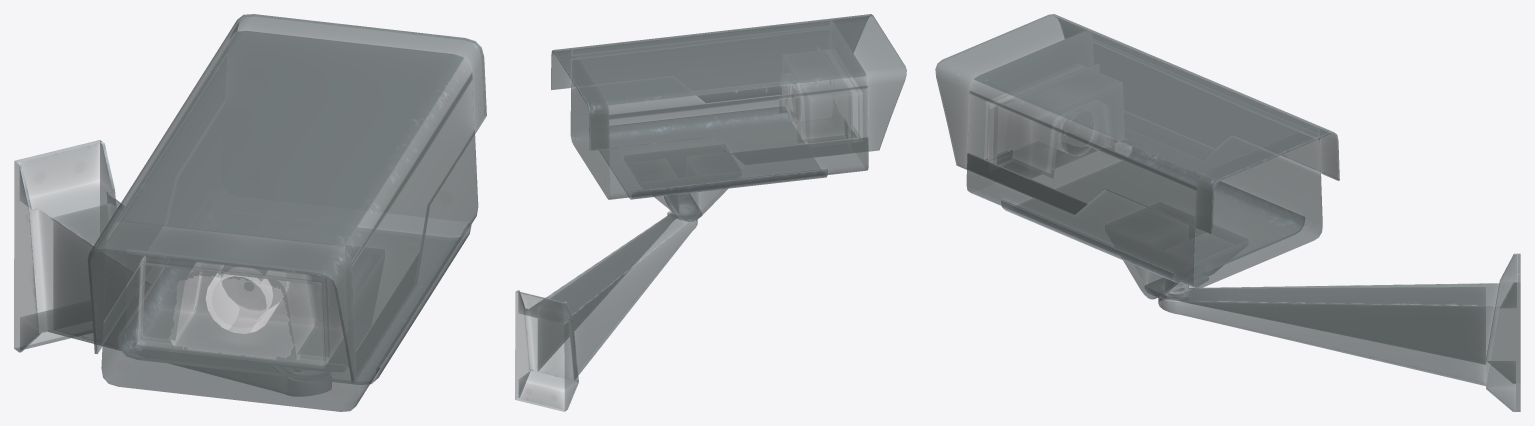
The model's file is Security_camera_1.glb.
The picture shows the model from 3 angles, left to right: view 1: azimuth 30°, elevation 25°; view 2: azimuth 150°, elevation 25°; view 3: azimuth 270°, elevation 25°; orthographic projection. The views are drawn at different scales.
Visible parts, largest first — view 1: Cam1_cam002_Cam1_0, Cam1_fixture001_Cam1_0; view 2: Cam1_cam002_Cam1_0, Cam1_fixture001_Cam1_0; view 3: Cam1_cam002_Cam1_0, Cam1_fixture001_Cam1_0.
Part boxes in pixels (bbox=[...]): Cam1_cam002_Cam1_0: bbox=[87, 14, 486, 411]; Cam1_fixture001_Cam1_0: bbox=[14, 140, 331, 396]; Cam1_cam002_Cam1_0: bbox=[551, 14, 906, 222]; Cam1_fixture001_Cam1_0: bbox=[515, 210, 697, 411]; Cam1_cam002_Cam1_0: bbox=[935, 14, 1339, 299]; Cam1_fixture001_Cam1_0: bbox=[1158, 253, 1520, 411].
Bounding box in the file's own units: 127 × 98.11 × 183.
1 material, 1 textured.
